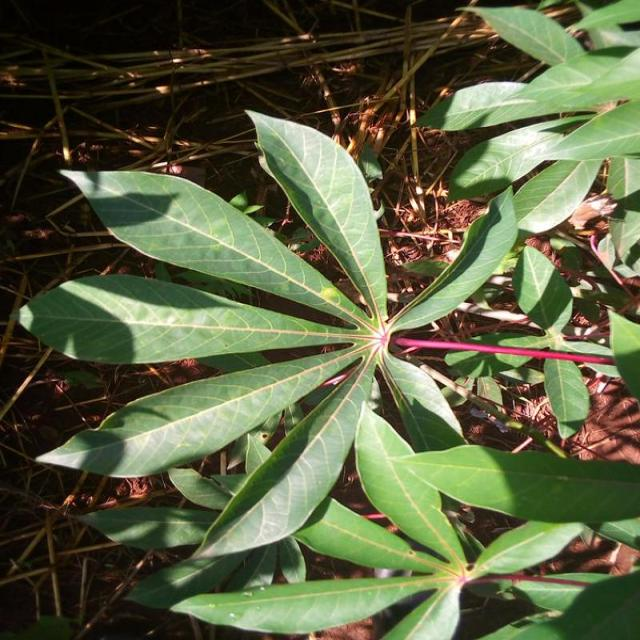cassava leaf: (14, 103, 636, 636), (57, 165, 371, 328), (243, 107, 388, 323)
